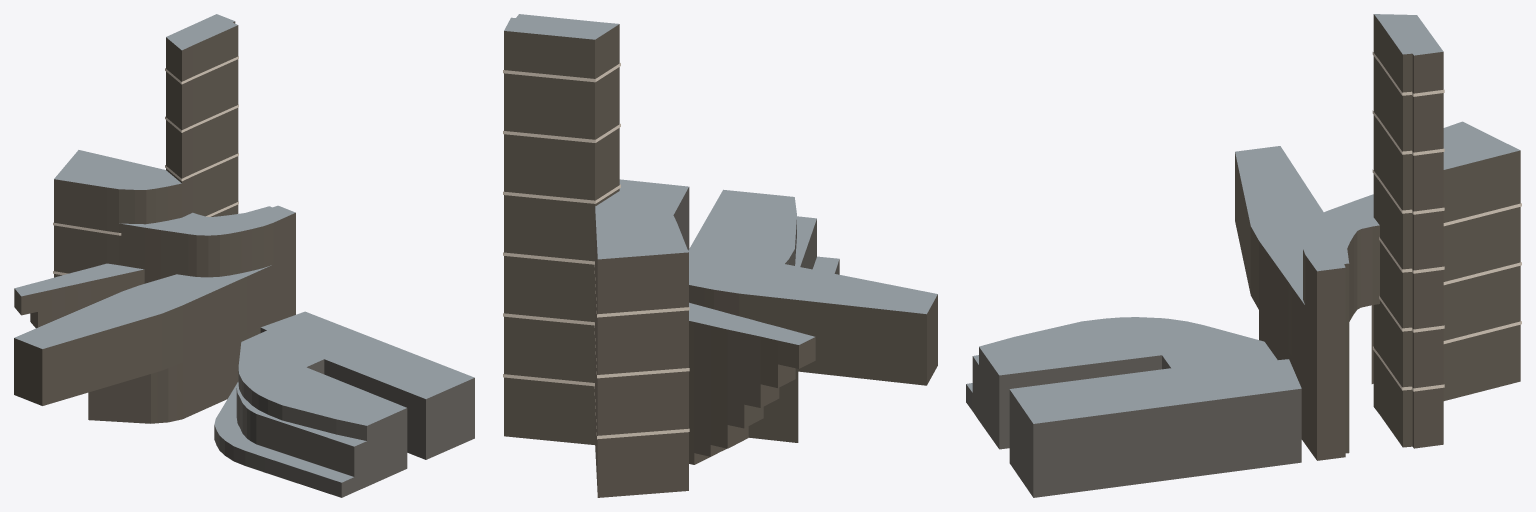
The model's file is barcelona-torre-mare-nostrum.glb.
3 renders of one model, left to right at view 1: azimuth 30°, elevation 25°; view 2: azimuth 150°, elevation 25°; view 3: azimuth 270°, elevation 25°, orthographic. The views are drawn at different scales.
Visible parts, largest first — view 1: Torre Mare Nostrum; view 2: Torre Mare Nostrum; view 3: Torre Mare Nostrum.
Part boxes in pixels (box(x1,y1,x2,y2)): Torre Mare Nostrum: box(14, 14, 474, 497); Torre Mare Nostrum: box(503, 14, 937, 497); Torre Mare Nostrum: box(966, 14, 1521, 497).
Size of the model in its own units: 99 by 85 by 109.
